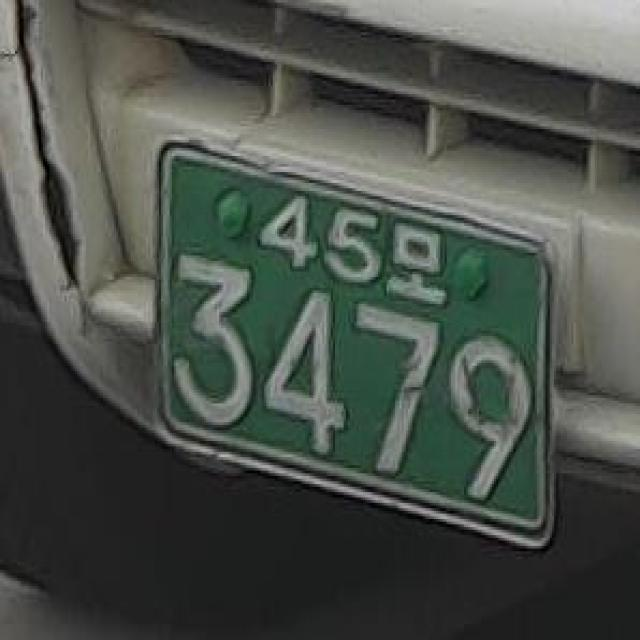illegal_plate: (133, 132, 578, 554)
